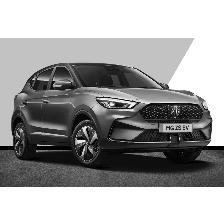EV: (12, 62, 214, 166)
